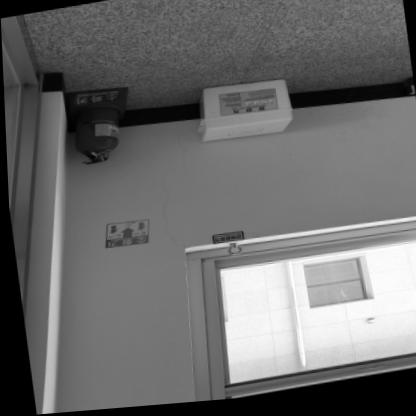DDL: (191, 77, 296, 148)
